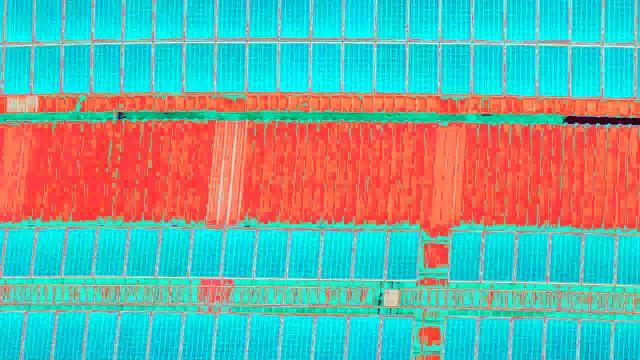dirty: (2, 2, 640, 99), (2, 230, 420, 282), (2, 311, 413, 360), (448, 232, 640, 284), (445, 317, 640, 358)
